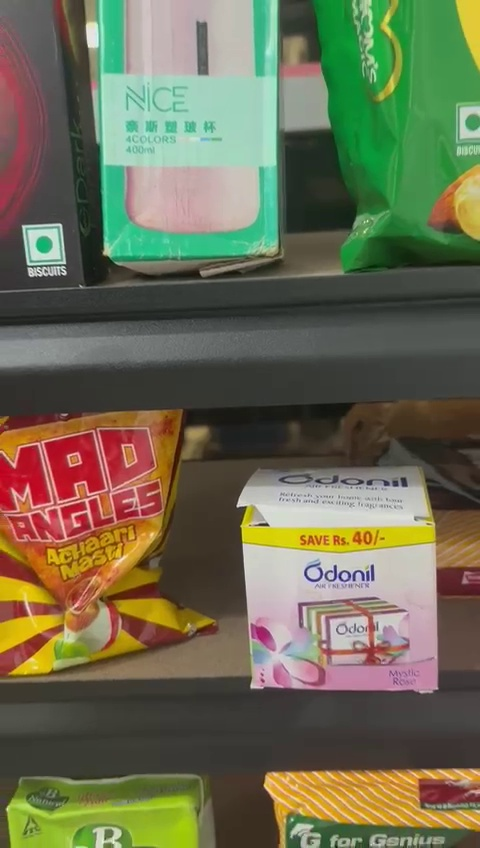Odonil: (243, 474, 444, 696)
